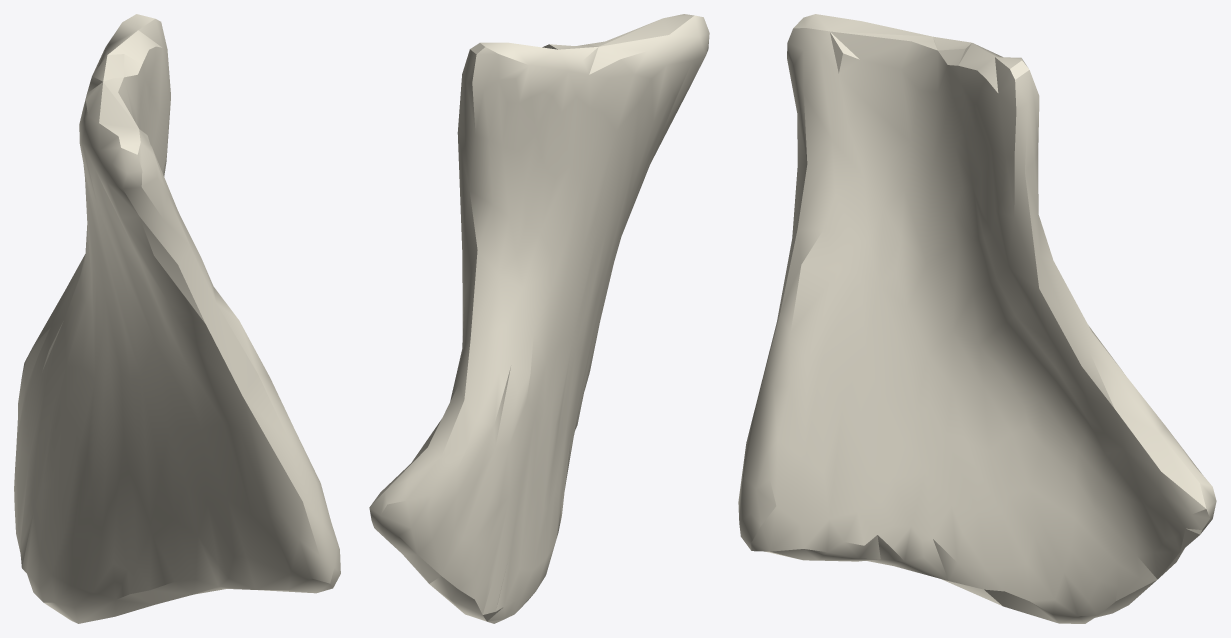
The model's file is fma44071_mm1364.glb.
3 views of the same model, side by side, from view 1: azimuth 30°, elevation 25°; view 2: azimuth 150°, elevation 25°; view 3: azimuth 270°, elevation 25° (orthographic). The views are drawn at different scales.
Visible parts, largest first — view 1: FMA44071_MM1364; view 2: FMA44071_MM1364; view 3: FMA44071_MM1364.
Boxes of the visible parts, left/top/right/bottom form: FMA44071_MM1364: left=14, top=14, right=340, bottom=623; FMA44071_MM1364: left=369, top=14, right=709, bottom=623; FMA44071_MM1364: left=738, top=14, right=1216, bottom=623.
Bounding box in the file's own units: 0.00814 × 0.0231 × 0.0171.
